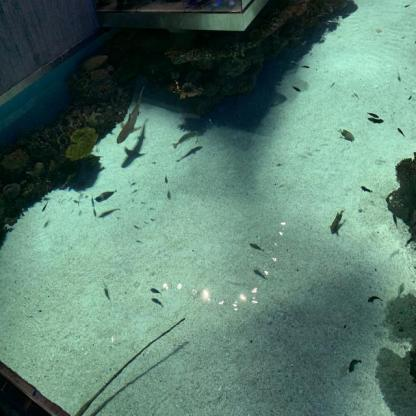fish: (172, 130, 200, 149), (329, 208, 346, 236), (94, 189, 117, 203), (348, 357, 362, 374), (338, 128, 354, 142), (250, 240, 264, 254), (367, 294, 384, 305), (366, 110, 380, 120), (150, 286, 161, 298), (360, 184, 373, 194), (103, 286, 110, 302), (41, 201, 50, 212), (392, 211, 398, 225), (292, 84, 301, 93), (398, 127, 405, 138), (164, 173, 169, 185), (302, 63, 310, 70), (396, 69, 400, 81)
shark: (116, 85, 147, 145)
